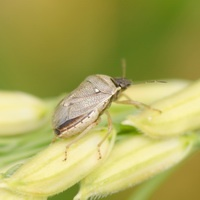insect: (52, 61, 130, 137)
